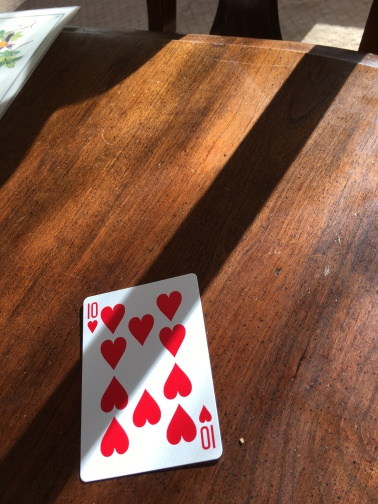ten: (81, 274, 223, 479)
